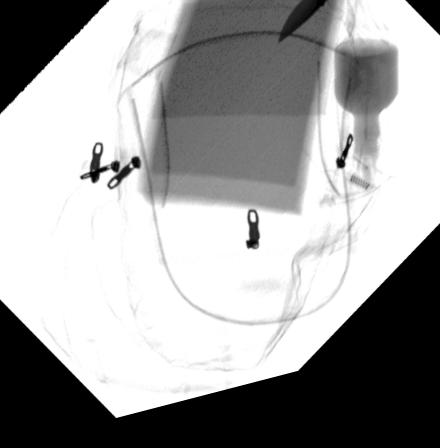Knife: (247, 0, 336, 61)
